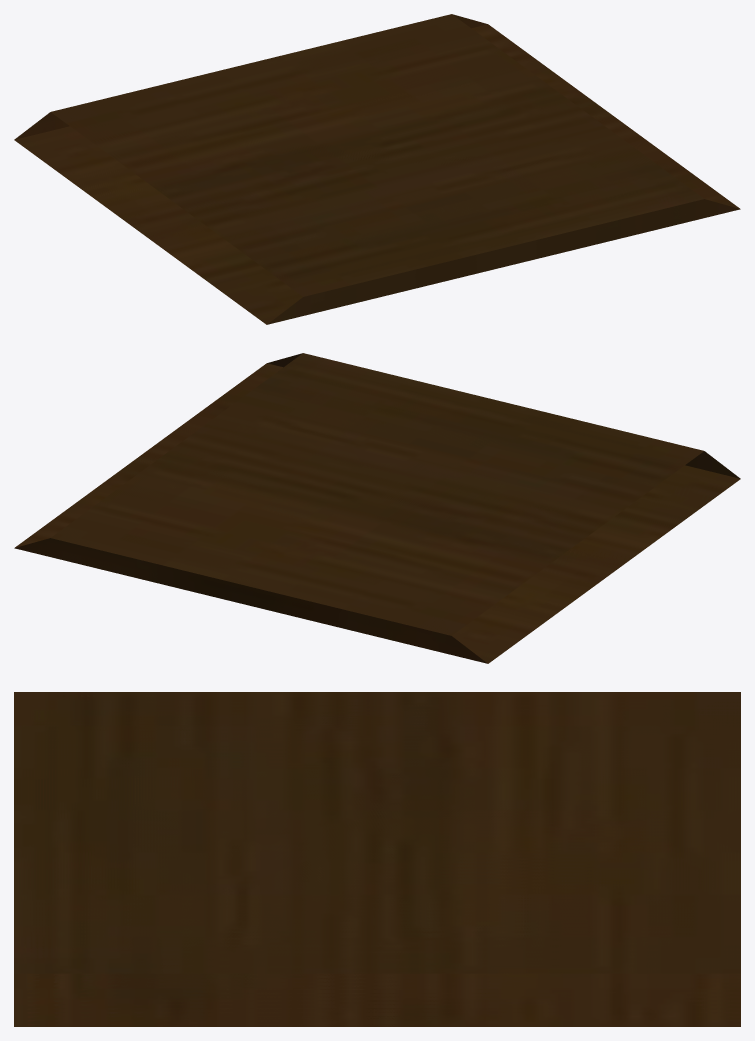
File: link_8__other_leaf-16.glb
3 renders of one model, top to bottom at view 1: azimuth 30°, elevation 25°; view 2: azimuth 150°, elevation 25°; view 3: azimuth 270°, elevation 25°, orthographic. The views are drawn at different scales.
Parts seen in each view (by area): view 1: geometry_0; view 2: geometry_0; view 3: geometry_0.
Boxes of the visible parts, x1=… form: geometry_0: x1=14, y1=14, x2=740, y2=324; geometry_0: x1=14, y1=353, x2=740, y2=663; geometry_0: x1=14, y1=692, x2=740, y2=1026.
Size of the model in its own units: 0.1365 by 0.00525 by 0.126.
1 material, 1 textured.
